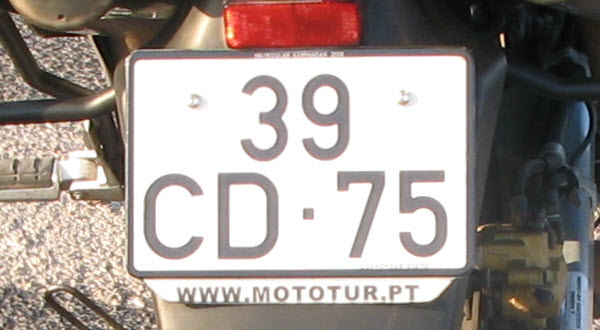license_plate: (126, 49, 474, 279)
